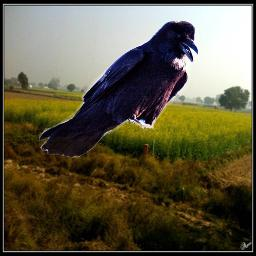Crow: (39, 20, 198, 158)
